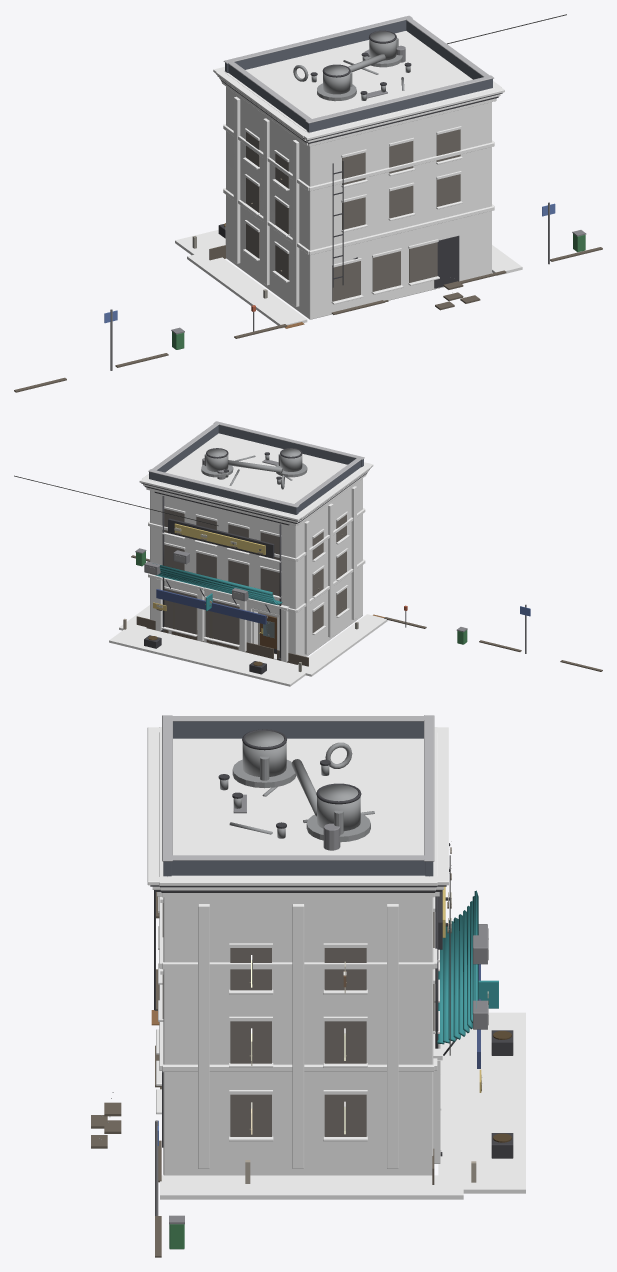
The model's file is hm_storefront_v10.glb.
3 renders of one model, top to bottom at view 1: azimuth 30°, elevation 25°; view 2: azimuth 150°, elevation 25°; view 3: azimuth 270°, elevation 25°, orthographic. The views are drawn at different scales.
Parts seen in each view (by area): view 1: hm_storefront_v10_shell, hm_storefront_v10_roof, hm_storefront_v10_walk_l, hm_storefront_v10_par_par_r, hm_storefront_v10_par_par_f, hm_storefront_v10_lpier_2, hm_storefront_v10_lpier_0, hm_storefront_v10_corn_cr_4, hm_storefront_v10_lpier_1, hm_storefront_v10_alley_frm, hm_storefront_v10_rshop_1_reveal, hm_storefront_v10_rshop_2_reveal (+22 smaller); view 2: hm_storefront_v10_shell, hm_storefront_v10_roof, hm_storefront_v10_walk_f, hm_storefront_v10_walk_l, hm_storefront_v10_awning, hm_storefront_v10_par_par_f, hm_storefront_v10_par_par_r, hm_storefront_v10_v9_sign_store_fascia, hm_storefront_v10_fshop_0_reveal, hm_storefront_v10_fshop_1_reveal, hm_storefront_v10_sign, hm_storefront_v10_corn_cf_4 (+18 smaller); view 3: hm_storefront_v10_shell, hm_storefront_v10_roof, hm_storefront_v10_walk_f, hm_storefront_v10_walk_r, hm_storefront_v10_awning, hm_storefront_v10_par_par_l, hm_storefront_v10_par_par_r.001, hm_storefront_v10_rpier_1, hm_storefront_v10_rpier_0, hm_storefront_v10_rpier_2, hm_storefront_v10_corn_crr_4, hm_storefront_v10_corn_cr_4 (+22 smaller).
Part boxes in pixels (box(x1,y1,x2,y2)): hm_storefront_v10_shell: box(225, 87, 491, 319); hm_storefront_v10_roof: box(245, 31, 472, 118); hm_storefront_v10_walk_l: box(187, 254, 307, 328); hm_storefront_v10_par_par_r: box(306, 79, 492, 132); hm_storefront_v10_par_par_f: box(225, 20, 406, 72); hm_storefront_v10_lpier_2: box(233, 96, 240, 263); hm_storefront_v10_lpier_0: box(292, 140, 299, 306); hm_storefront_v10_corn_cr_4: box(302, 87, 504, 140); hm_storefront_v10_lpier_1: box(263, 118, 269, 285); hm_storefront_v10_alley_frm: box(434, 235, 459, 288); hm_storefront_v10_rshop_1_reveal: box(372, 251, 400, 291); hm_storefront_v10_rshop_2_reveal: box(409, 242, 437, 282); hm_storefront_v10_shell: box(150, 478, 362, 659); hm_storefront_v10_roof: box(165, 433, 347, 503); hm_storefront_v10_walk_f: box(109, 624, 311, 686); hm_storefront_v10_walk_l: box(298, 614, 387, 676); hm_storefront_v10_awning: box(153, 563, 282, 605); hm_storefront_v10_par_par_f: box(149, 472, 298, 514); hm_storefront_v10_par_par_r: box(218, 425, 363, 466); hm_storefront_v10_v9_sign_store_fascia: box(156, 589, 266, 624); hm_storefront_v10_fshop_0_reveal: box(205, 599, 239, 644); hm_storefront_v10_fshop_1_reveal: box(164, 588, 197, 634); hm_storefront_v10_sign: box(174, 523, 265, 554); hm_storefront_v10_corn_cf_4: box(139, 479, 301, 520); hm_storefront_v10_shell: box(163, 897, 433, 1175); hm_storefront_v10_roof: box(173, 738, 423, 855); hm_storefront_v10_walk_f: box(438, 1012, 525, 1193); hm_storefront_v10_walk_r: box(160, 1175, 463, 1199); hm_storefront_v10_awning: box(437, 890, 478, 1044); hm_storefront_v10_par_par_l: box(173, 721, 423, 738); hm_storefront_v10_par_par_r.001: box(171, 860, 425, 875); hm_storefront_v10_rpier_1: box(292, 904, 304, 1168); hm_storefront_v10_rpier_0: box(198, 904, 209, 1168); hm_storefront_v10_rpier_2: box(387, 904, 398, 1168); hm_storefront_v10_corn_crr_4: box(159, 877, 437, 885); hm_storefront_v10_corn_cr_4: box(147, 727, 166, 885).
Bounding box in the file's own units: 35.26 × 11.27 × 12.9.
